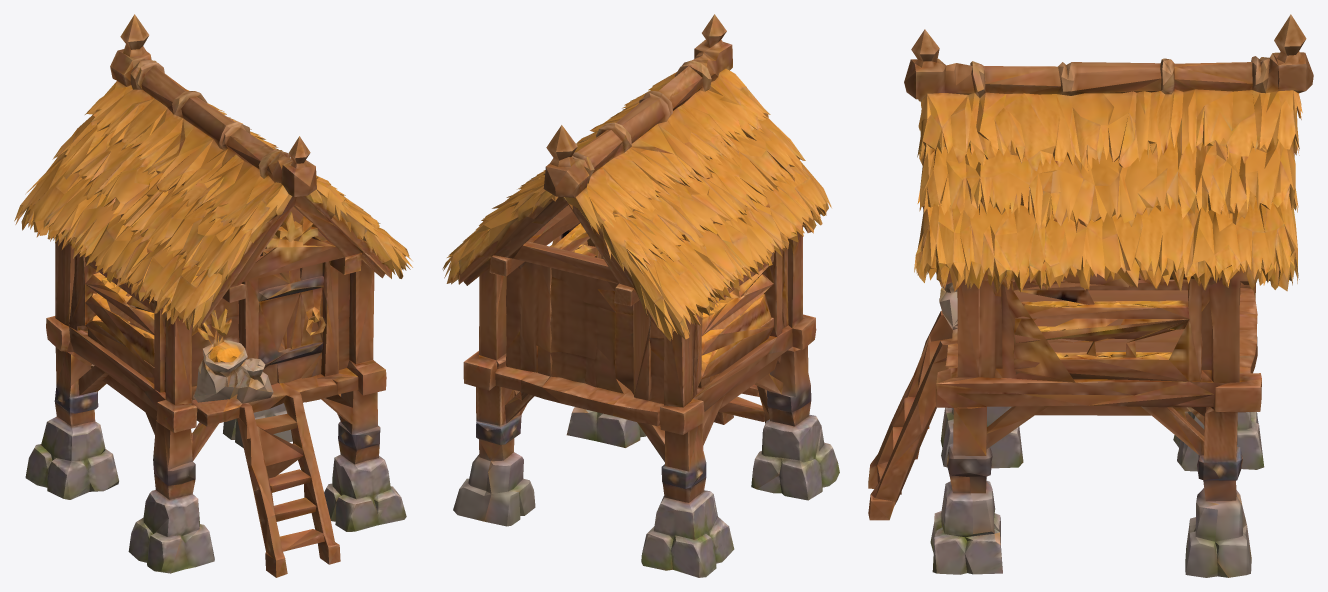
File: prop_granary.glb
3 renders of one model, left to right at view 1: azimuth 30°, elevation 25°; view 2: azimuth 150°, elevation 25°; view 3: azimuth 270°, elevation 25°, orthographic. The views are drawn at different scales.
Visible parts, largest first — view 1: output_unwrapped; view 2: output_unwrapped; view 3: output_unwrapped.
Part boxes in pixels (x1,y1,x2,y2): output_unwrapped: [14, 14, 412, 577]; output_unwrapped: [442, 14, 839, 577]; output_unwrapped: [868, 14, 1313, 577].
Size of the model in its own units: 1.2 by 1.9 by 1.56.
Materials: 1 (1 with a texture image).
